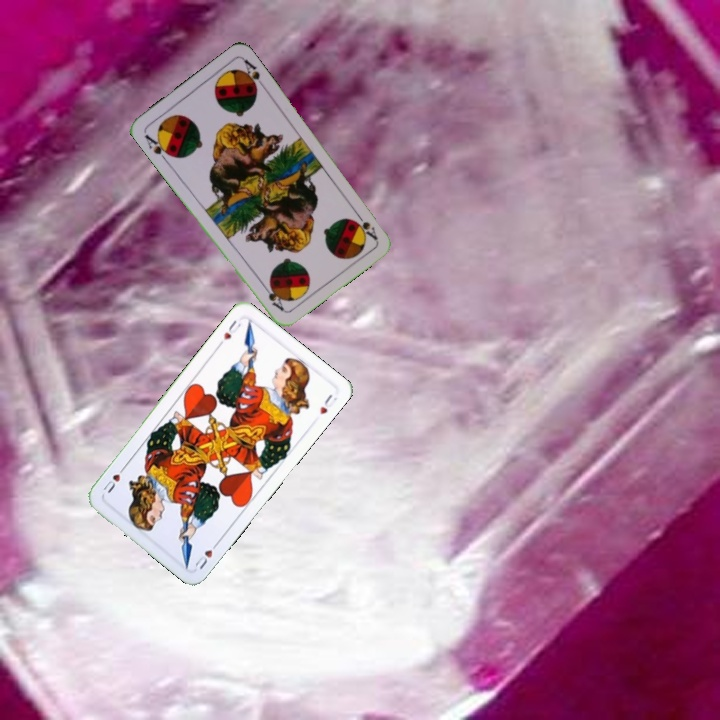HU: (191, 537, 222, 572), (214, 316, 244, 349)
SA: (141, 130, 175, 164), (351, 207, 380, 243)
